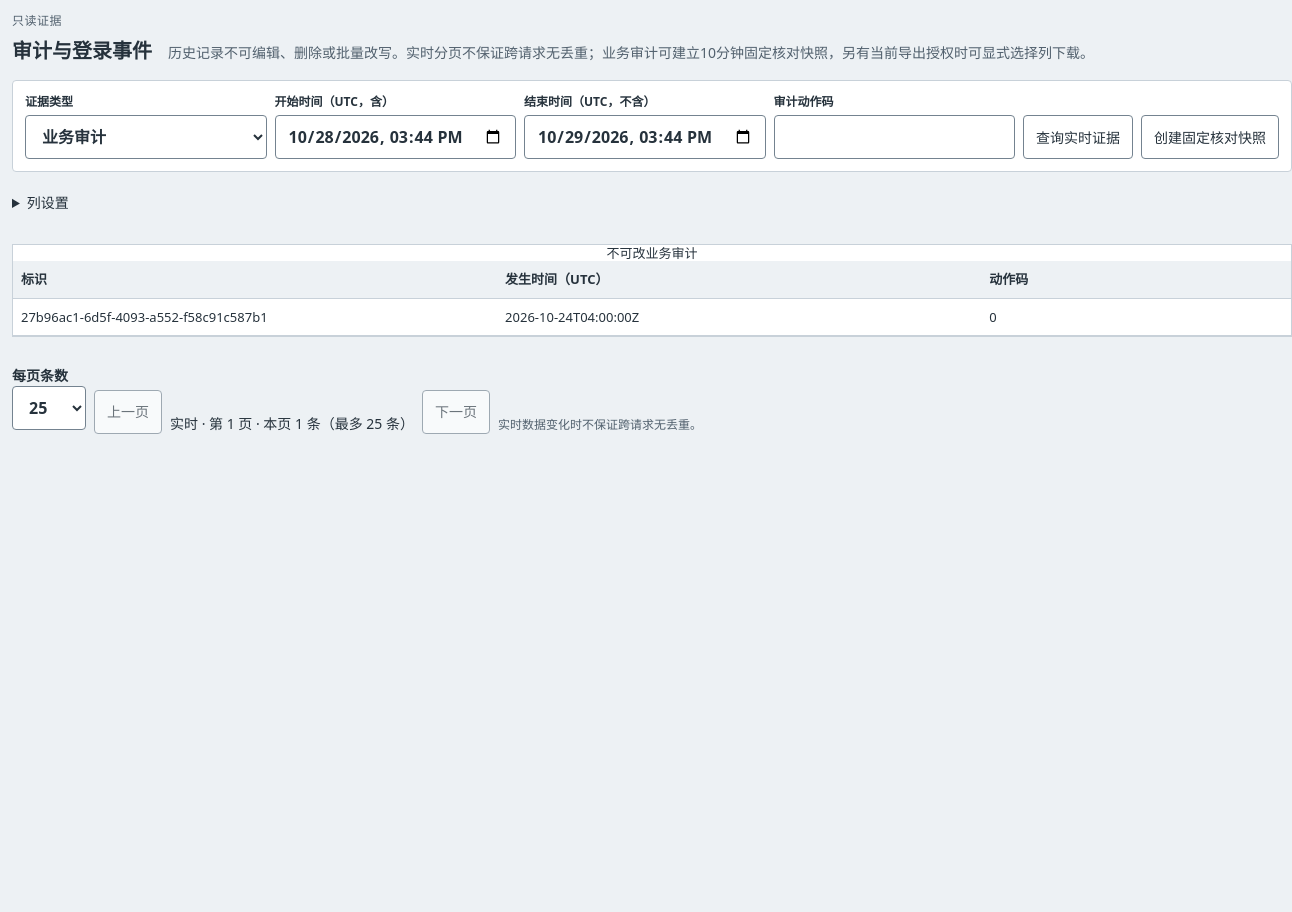
blocks a successful-looking response of the wrong media type and does not create an object URL
The image size is (1292, 912).
Step 1. Click the button with test id "create-audit-snapshot" → point(1210, 137), box [1141,115,1279,159]
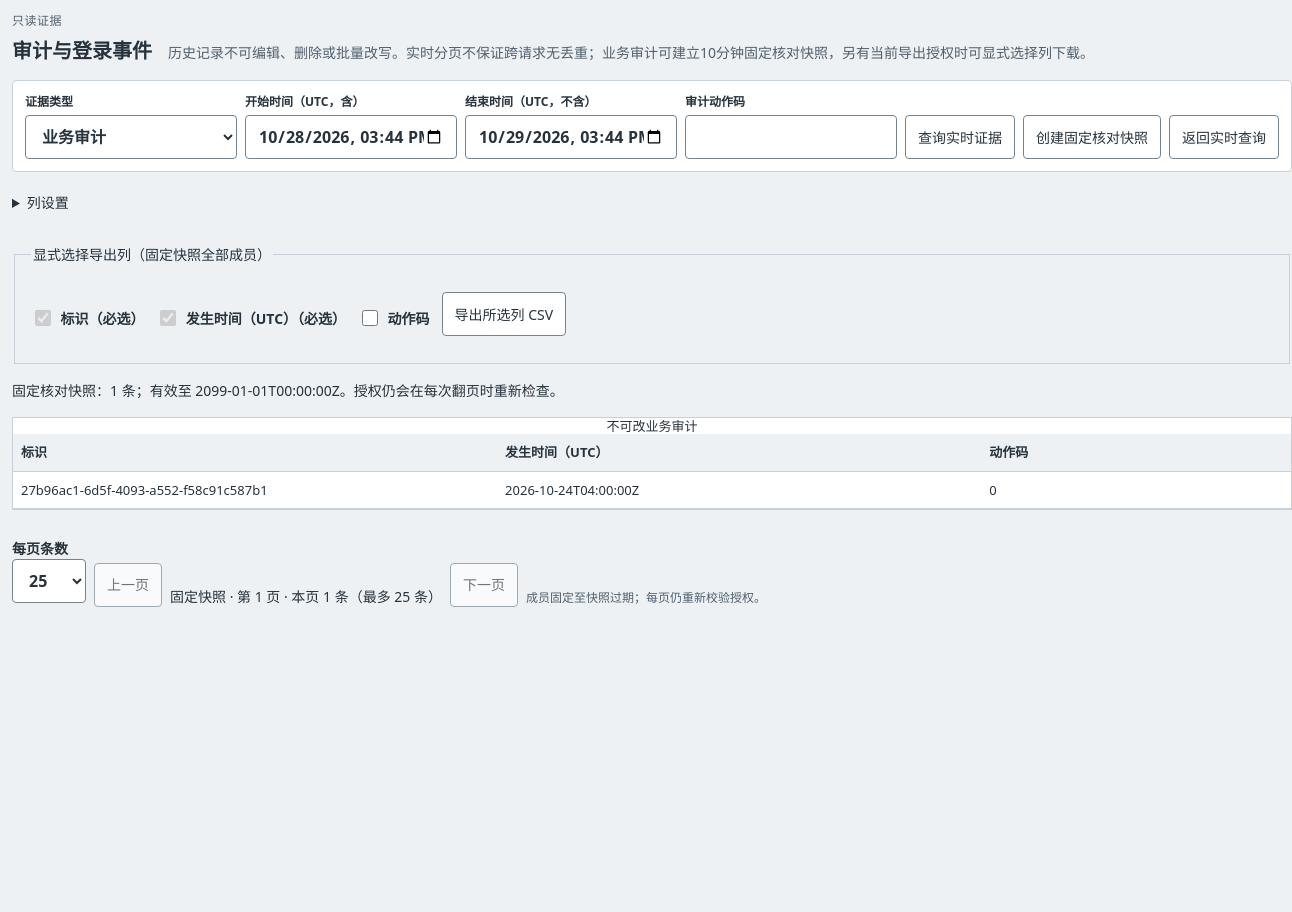
Step 2. Submit the form named "导出固定审计快照", box [12,244,1291,364]
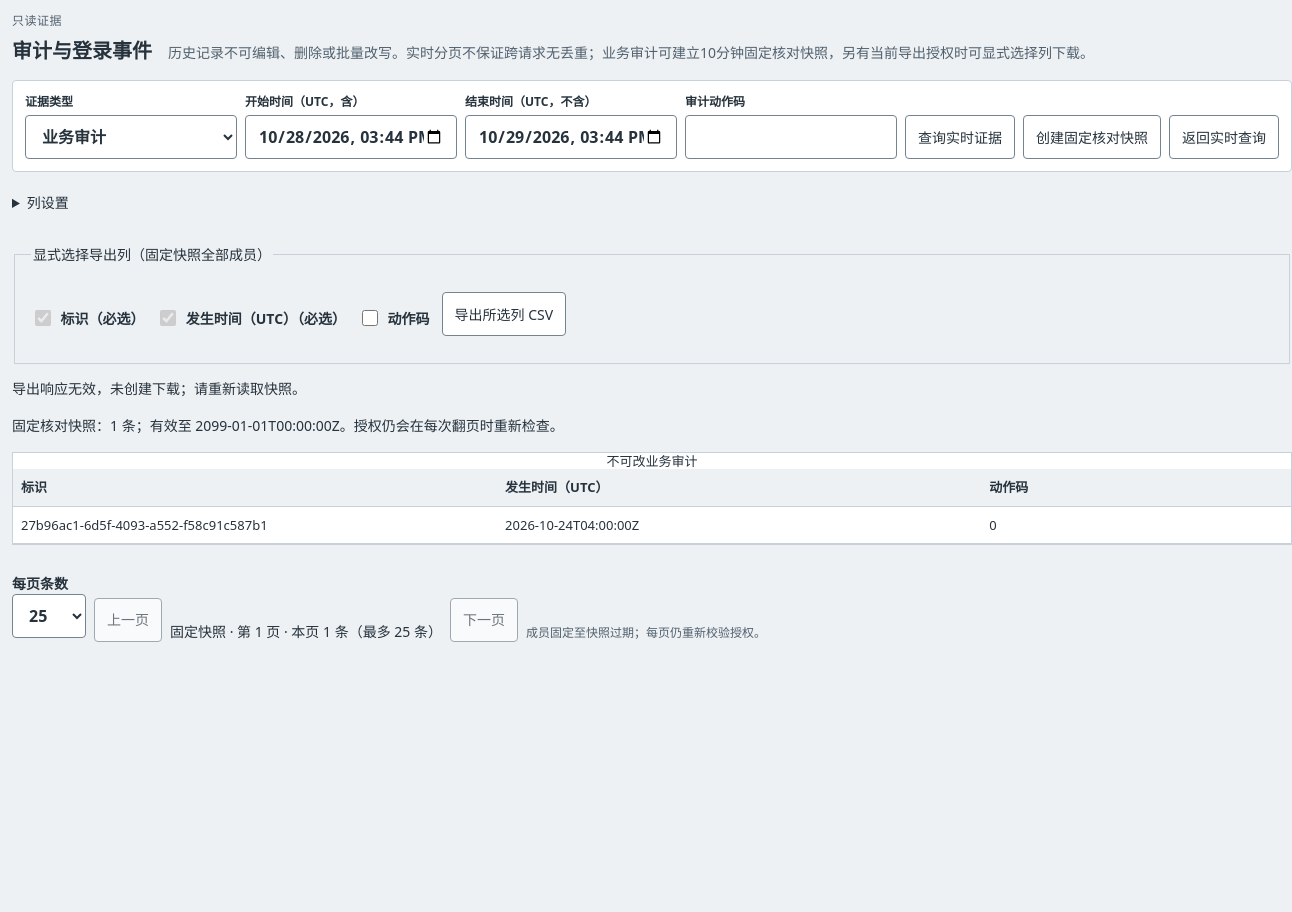
Check: the text "导出响应无效" is shown, box [12,379,306,398]
